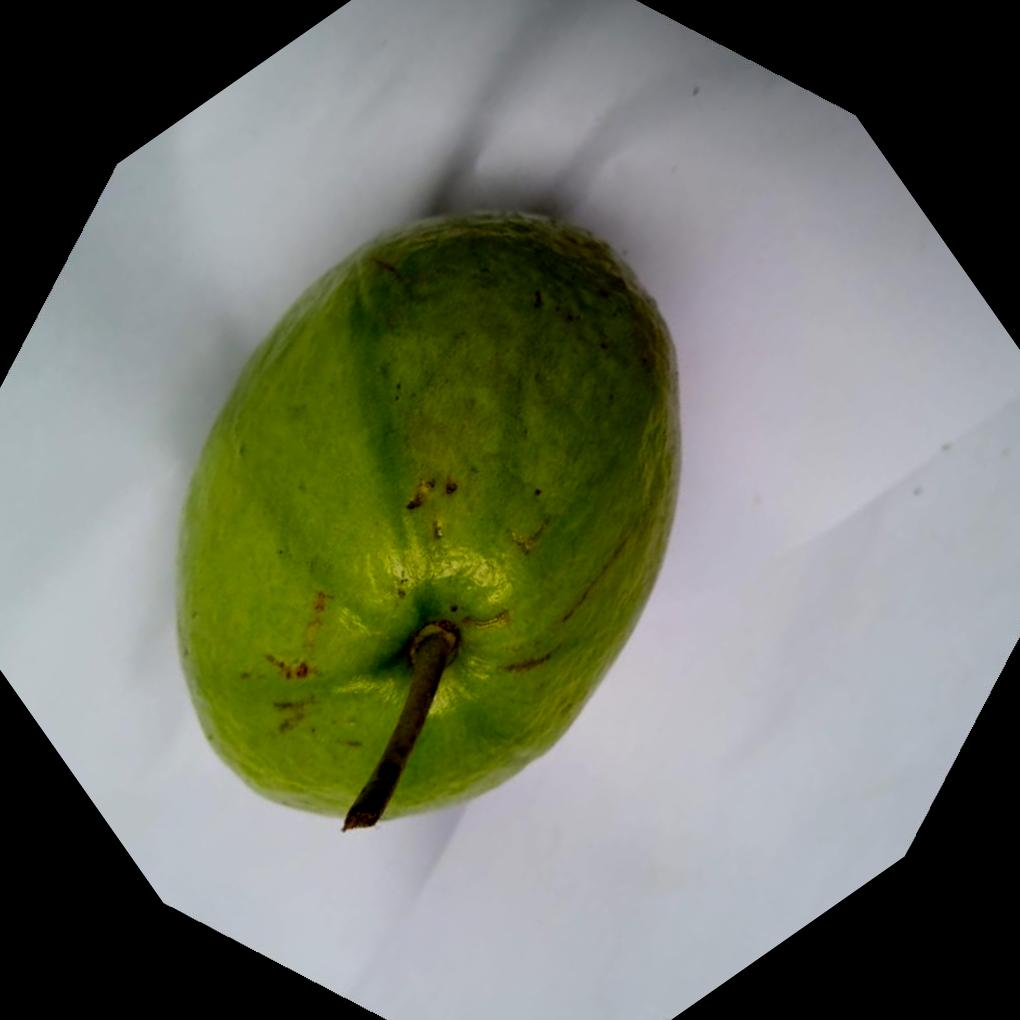FreshGuava: (171, 204, 682, 829)
